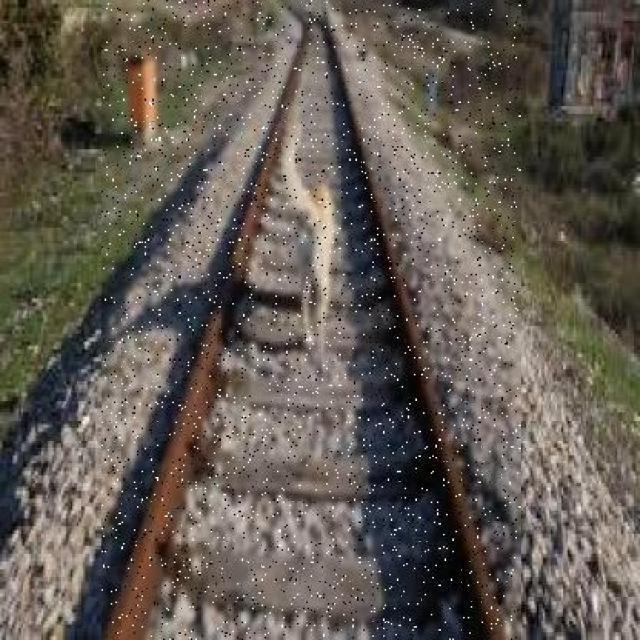danger: (268, 98, 357, 408)
rail: (100, 0, 520, 640)
